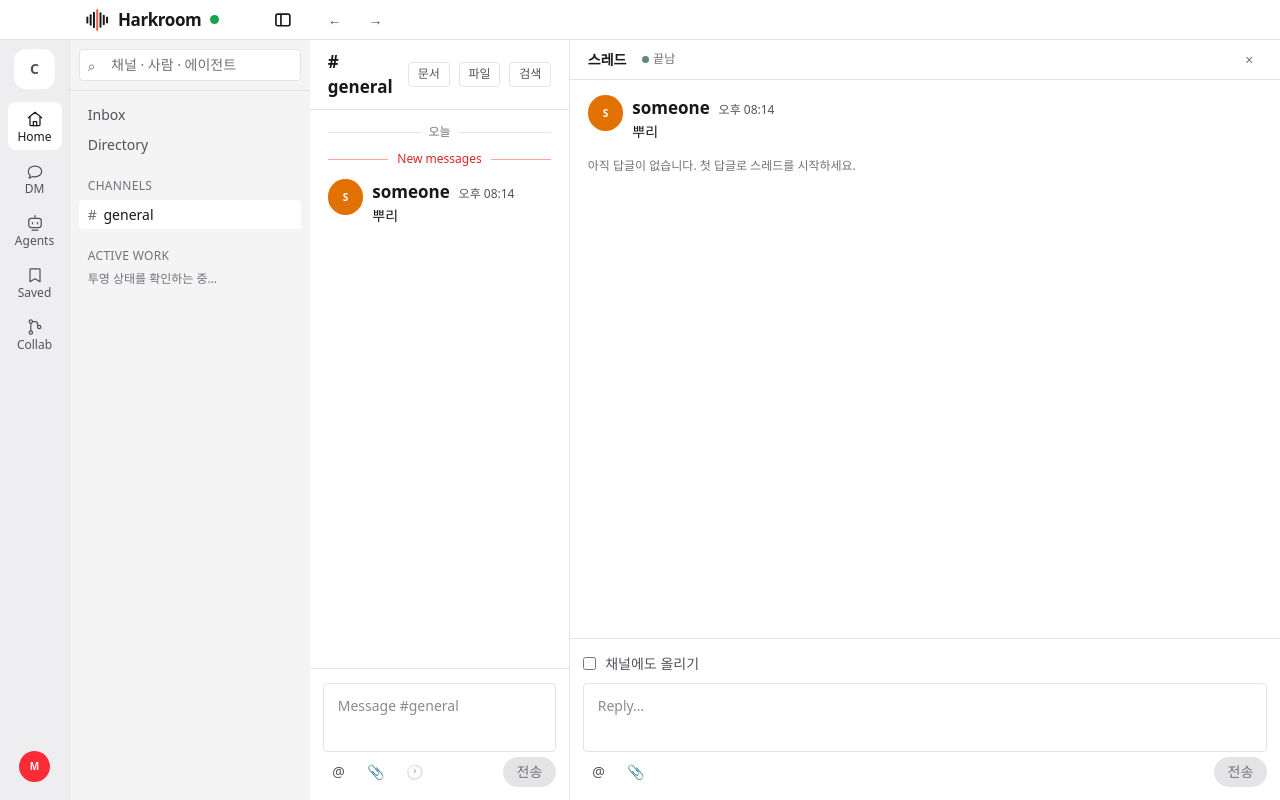
인박스는 자리다 — 모달이 아니다 (#488 C2) › 스레드가 열려 있는 채로 인박스를 열면 둘이 동시에 보인다
Check: the element with test id "thread-pane" is shown, box [569, 40, 1279, 799]
Click the button "Inbox" at (190, 115), box [79, 100, 301, 130]
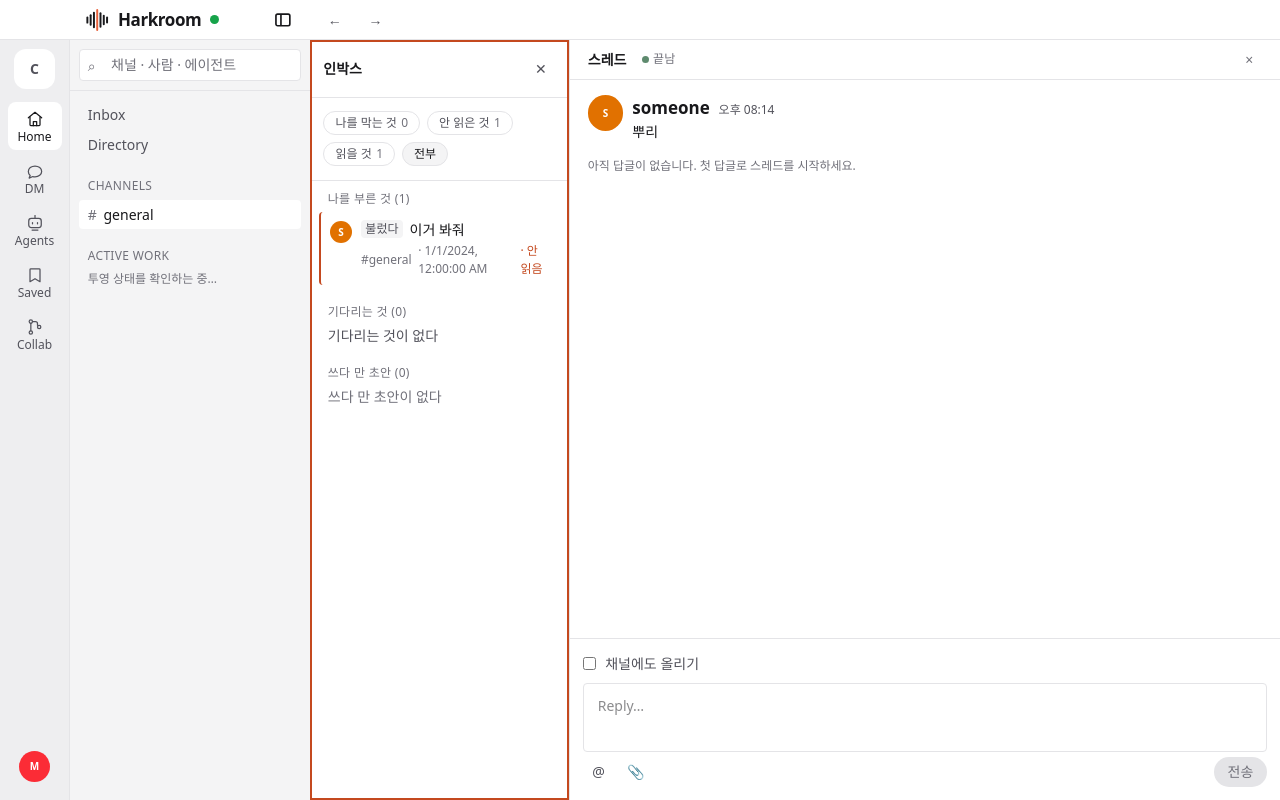
Check: the button with test id "inbox-entry-1" is shown, box [319, 212, 560, 285]
Check: the element with test id "inbox-pane" is shown, box [310, 40, 569, 799]
Check: the element with test id "channel-pane" is gone
